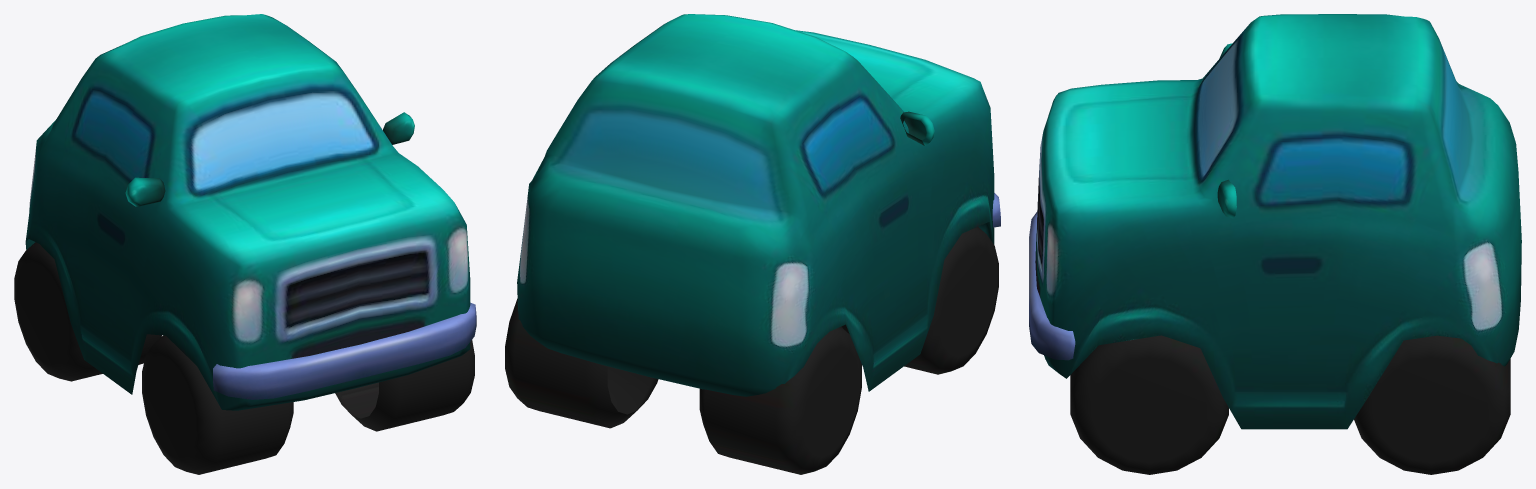
The model's file is LamNgoc.fbx.
3 renders of one model, left to right at view 1: azimuth 30°, elevation 25°; view 2: azimuth 150°, elevation 25°; view 3: azimuth 270°, elevation 25°, orthographic. The views are drawn at different scales.
Visible parts, largest first — view 1: LamNgoc, LamNgocBanh; view 2: LamNgoc, LamNgocBanh; view 3: LamNgoc, LamNgocBanh.
Part boxes in pixels (left/top/right/bottom): LamNgoc: left=25, top=14, right=476, bottom=410; LamNgocBanh: left=14, top=242, right=474, bottom=474; LamNgoc: left=517, top=14, right=1000, bottom=396; LamNgocBanh: left=505, top=227, right=998, bottom=474; LamNgoc: left=1029, top=14, right=1521, bottom=429; LamNgocBanh: left=1070, top=335, right=1510, bottom=474.
Bounding box in the file's own units: 1.76 × 2.38 × 1.93.
